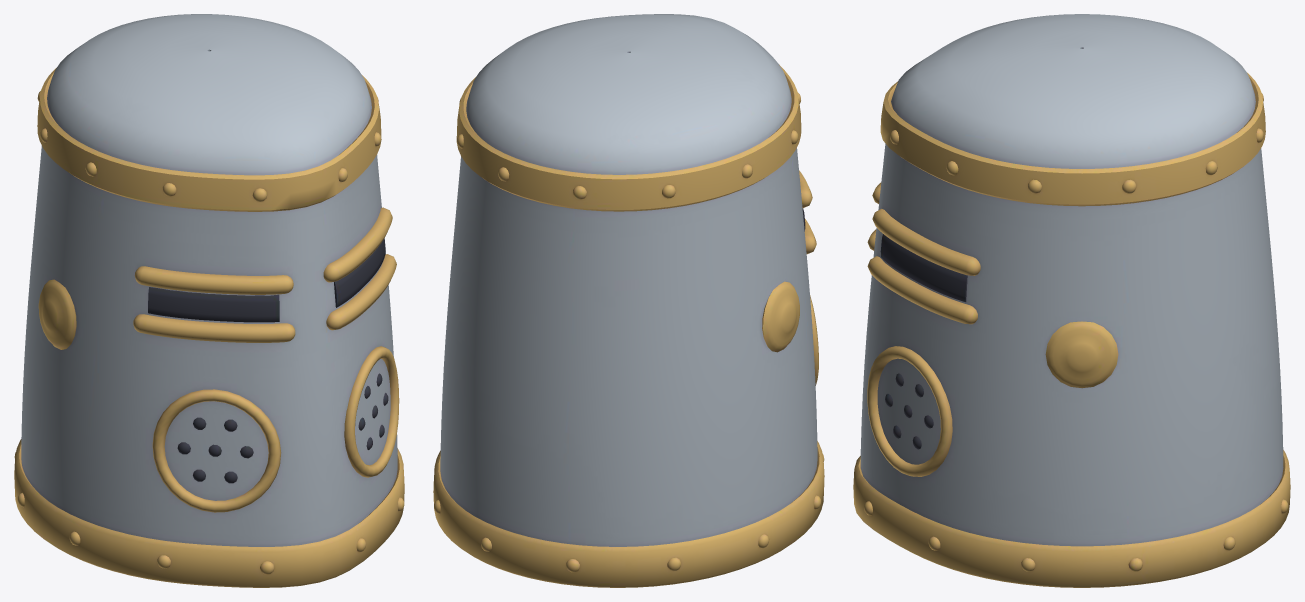
File: great-helm.glb
The picture shows the model from 3 angles, left to right: view 1: azimuth 30°, elevation 25°; view 2: azimuth 150°, elevation 25°; view 3: azimuth 270°, elevation 25°; orthographic projection.
Parts seen in each view (by area): view 1: great-helm_body; view 2: great-helm_body; view 3: great-helm_body.
Boxes of the visible parts, x1,y1,x2,y2 form: great-helm_body: [14, 14, 404, 587]; great-helm_body: [433, 14, 824, 587]; great-helm_body: [853, 14, 1290, 587].
Size of the model in its own units: 0.2559 by 0.332 by 0.2864.
Materials: 1 (1 with a texture image).
